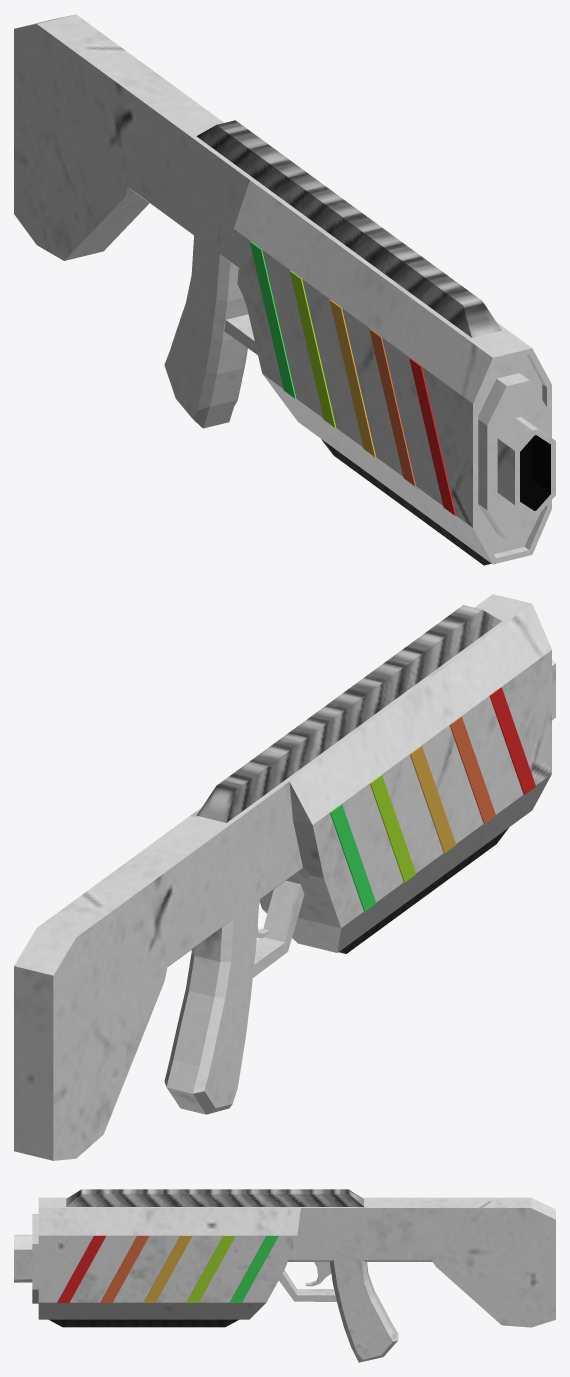
The model's file is Protogun_Gun 1.fbx.
3 views of the same model, one above another, from view 1: azimuth 30°, elevation 25°; view 2: azimuth 150°, elevation 25°; view 3: azimuth 270°, elevation 25° (orthographic). The views are drawn at different scales.
Parts seen in each view (by area): view 1: MSH_GUN.001; view 2: MSH_GUN.001; view 3: MSH_GUN.001.
Part boxes in pixels (<box>): MSH_GUN.001: <box>14,14,555,565</box>; MSH_GUN.001: <box>14,594,555,1160</box>; MSH_GUN.001: <box>14,1189,555,1362</box>.
Size of the model in its own units: 4.11 by 15 by 44.
Materials: 9 (3 with a texture image).
